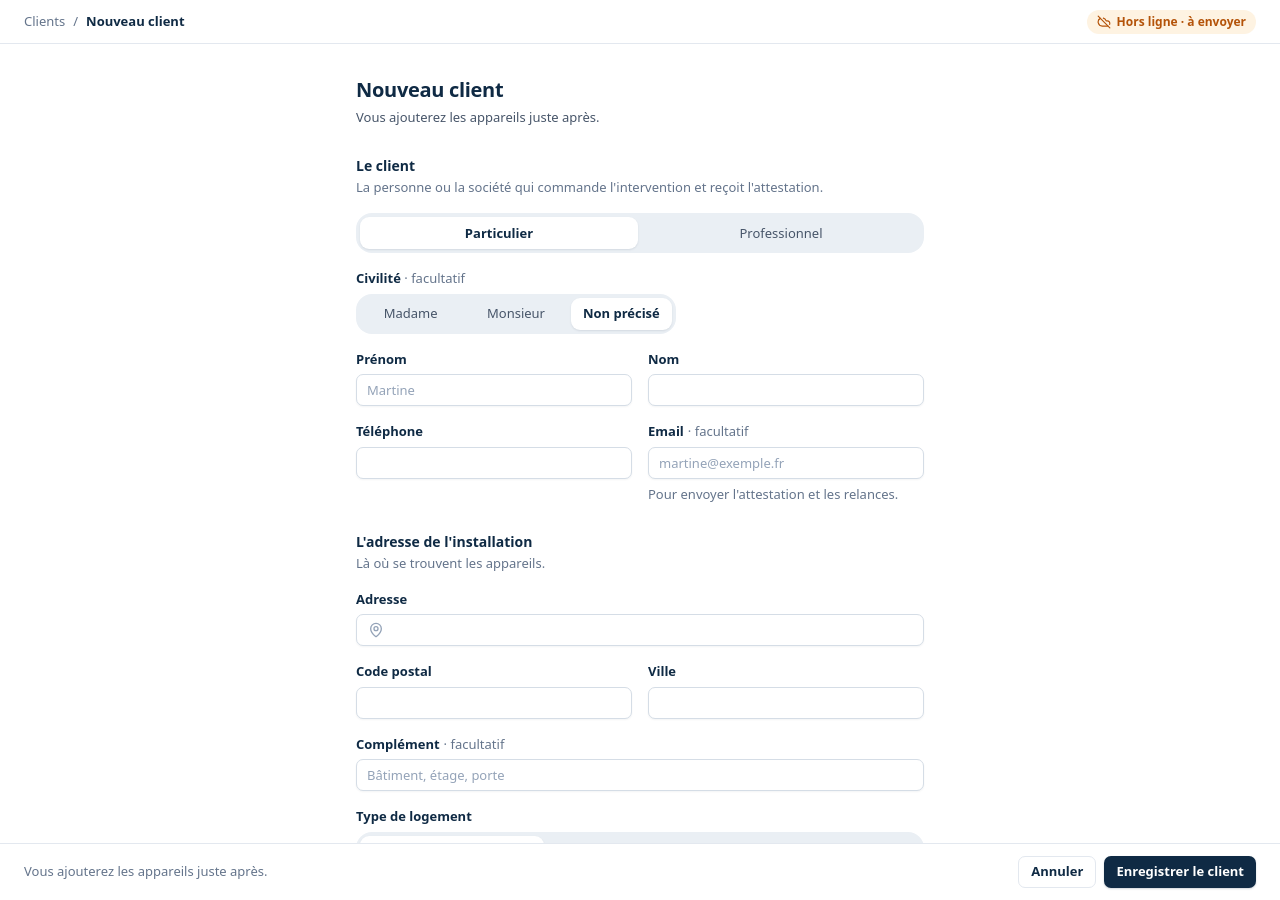
Test: NewCustomerScreen › lets the address be typed by hand and saves the customer when offline
Step 1. Type "Moreau" into the field labelled "Nom" → (786, 390), box [648,374,924,406]
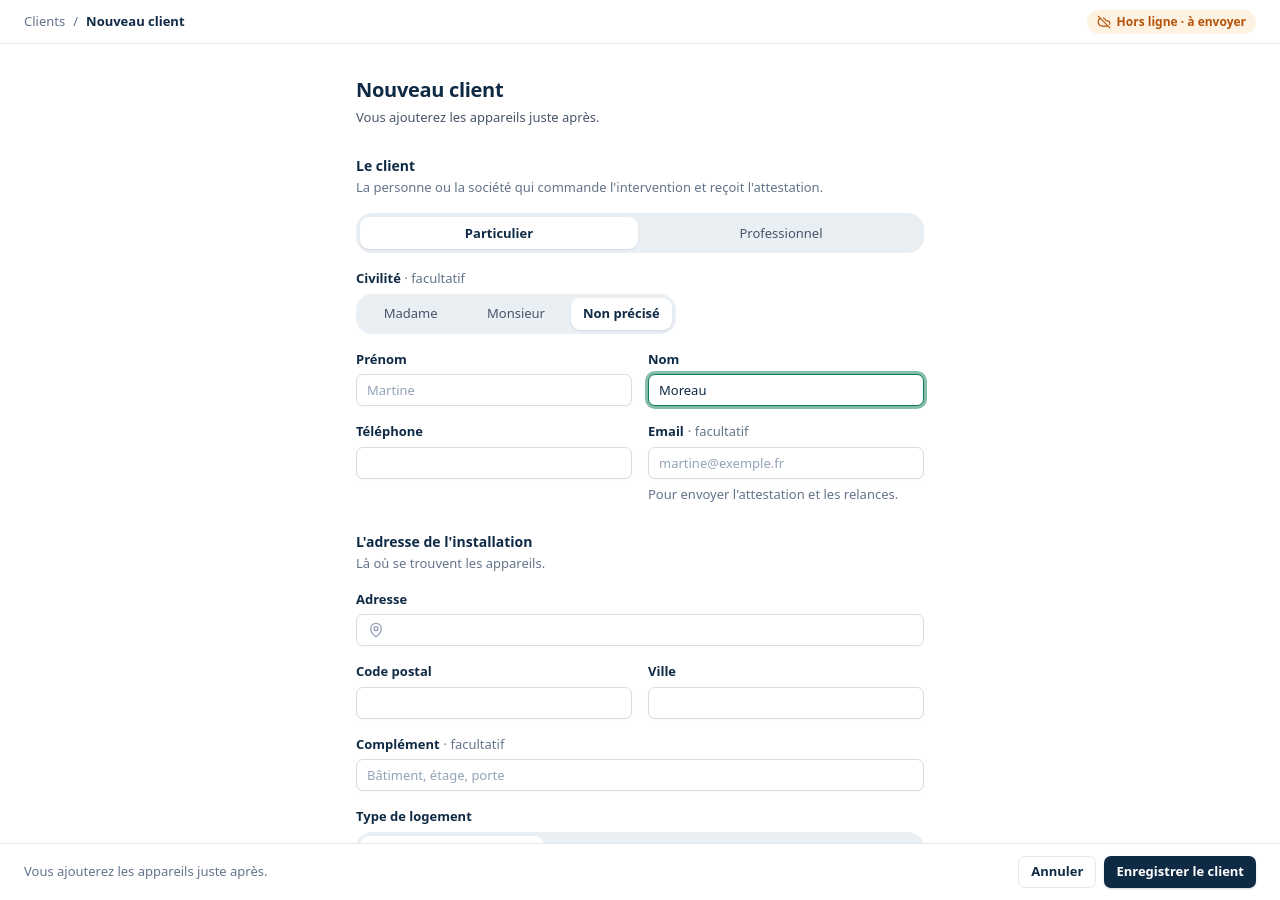
Step 2. Type "12 rue des Lilas" into the field labelled "Adresse" → (640, 630), box [356,614,924,646]
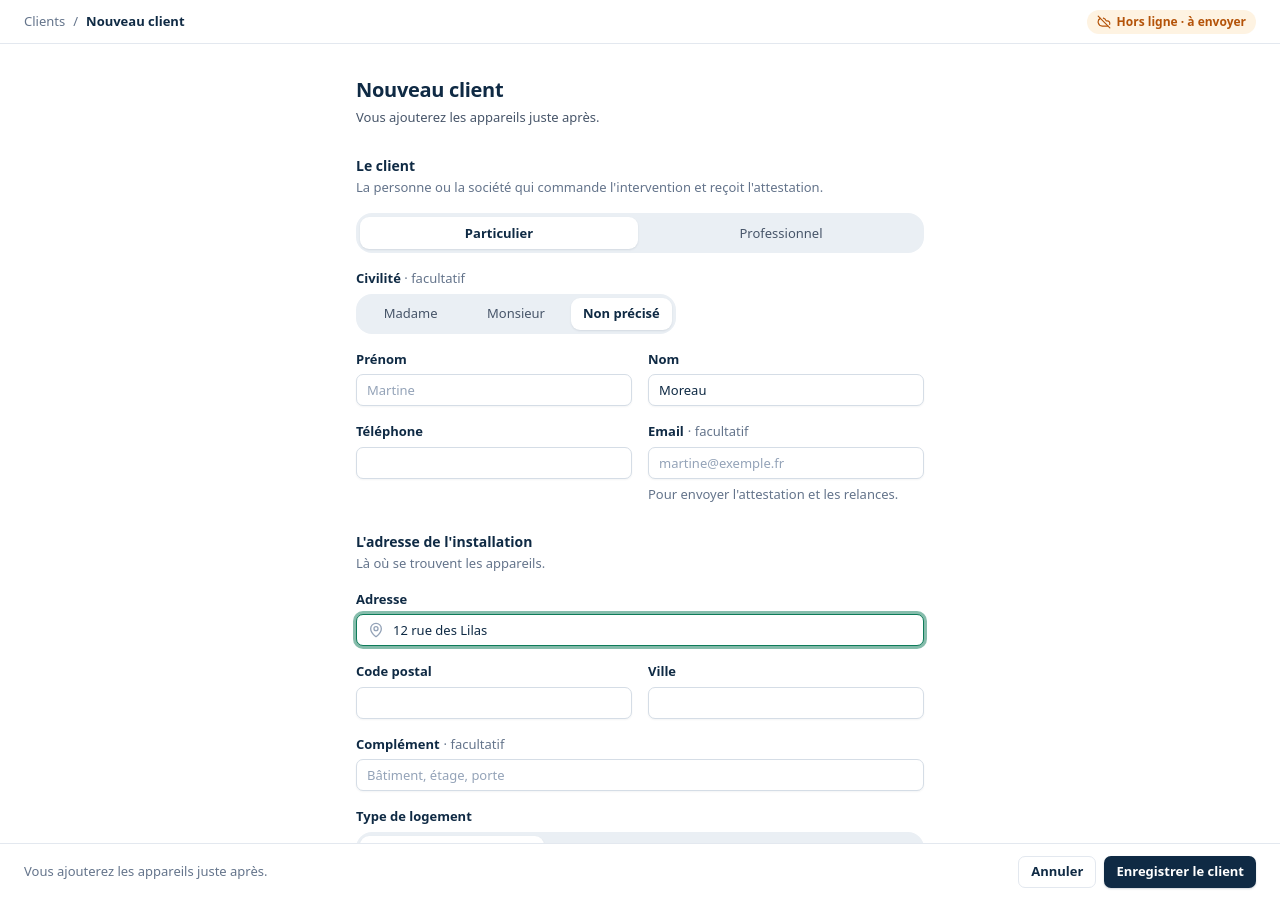
Step 3. Type "94200" into the field labelled "Code postal" → (494, 703), box [356,687,632,719]
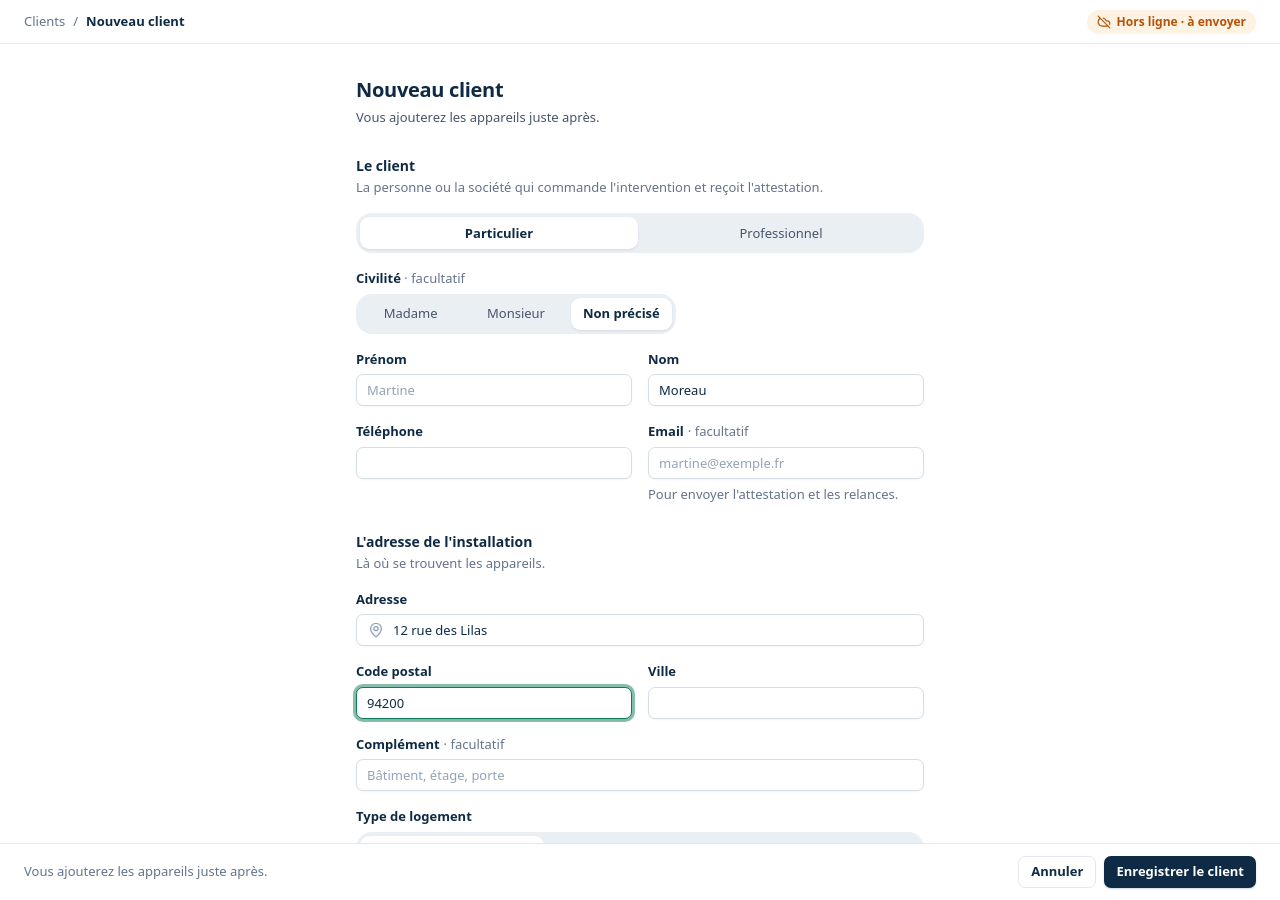
Step 4. Type "Ivry-sur-Seine" into the field labelled "Ville" → (786, 703), box [648,687,924,719]
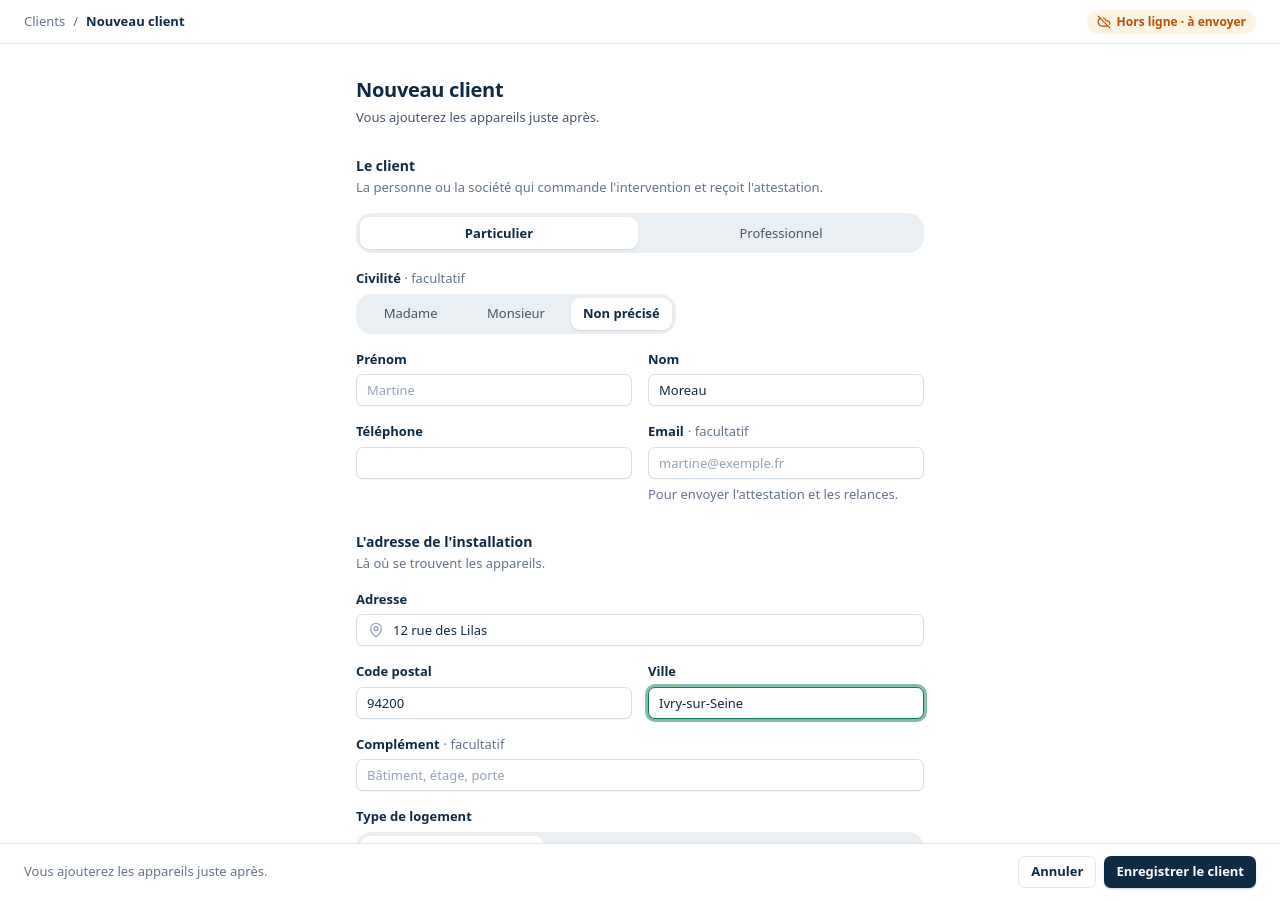
Step 5. Click the button "Enregistrer le client" → (1180, 872), box [1104,856,1256,888]
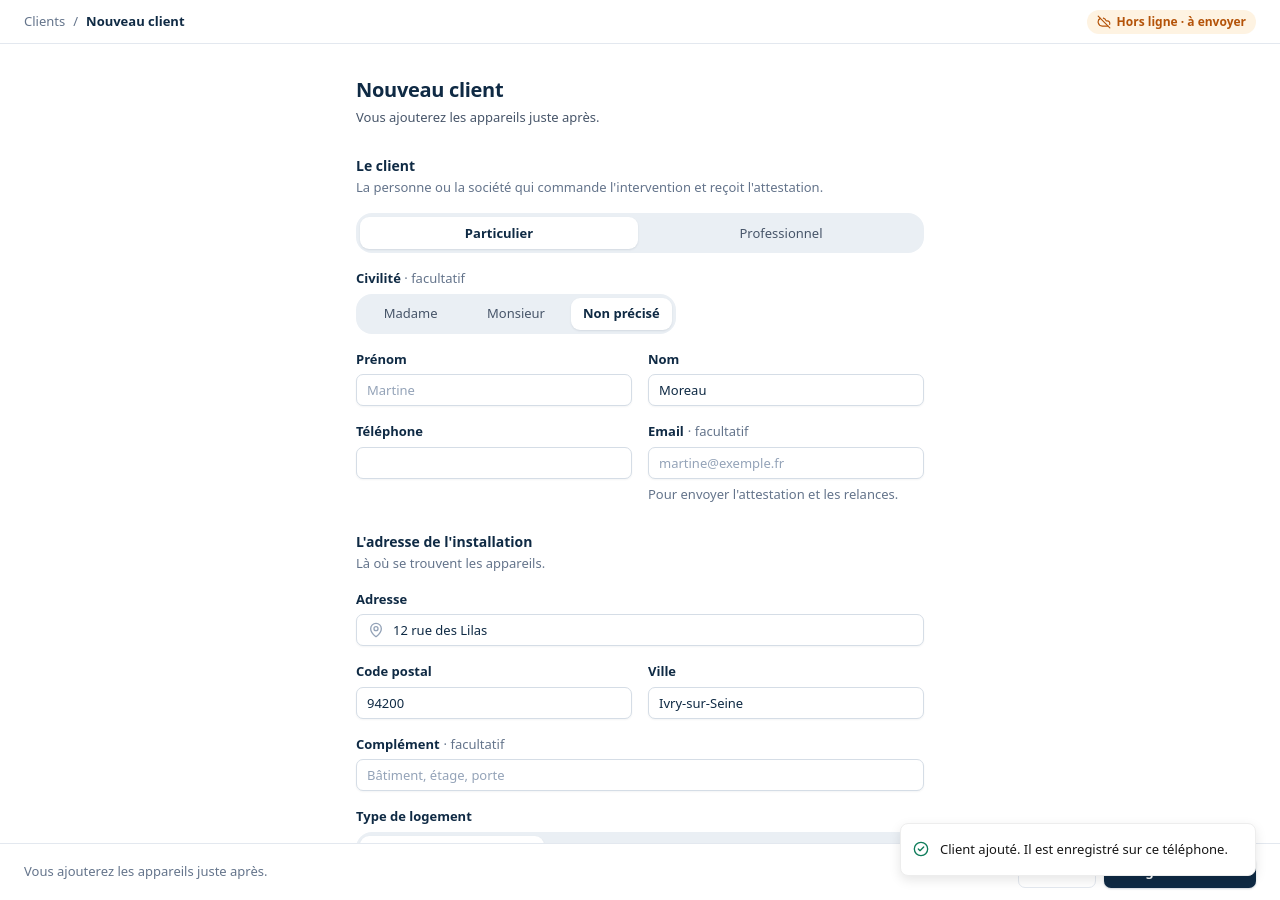
expect the text "Client ajouté. Il est enregistré sur ce téléphone." is shown: met, box [940,840,1228,859]
